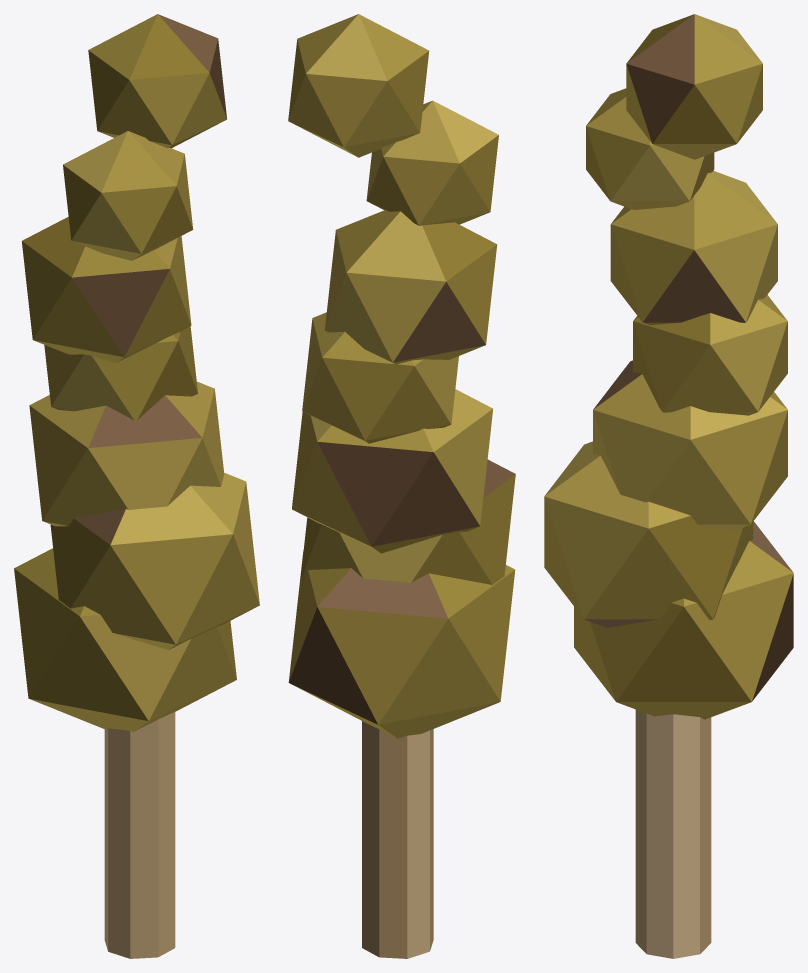
The model's file is Plant_TreePoplar_a.fbx.
3 views of the same model, side by side, from view 1: azimuth 30°, elevation 25°; view 2: azimuth 150°, elevation 25°; view 3: azimuth 270°, elevation 25° (orthographic). The views are drawn at different scales.
Parts seen in each view (by area): view 1: Plant_TreePoplar_a; view 2: Plant_TreePoplar_a; view 3: Plant_TreePoplar_a.
Part boxes in pixels (bbox=[...]): Plant_TreePoplar_a: bbox=[14, 14, 259, 958]; Plant_TreePoplar_a: bbox=[288, 14, 515, 958]; Plant_TreePoplar_a: bbox=[544, 14, 793, 958].
Size of what is drawn, in the model's own units: 0.6331 by 2.76 by 0.662.
